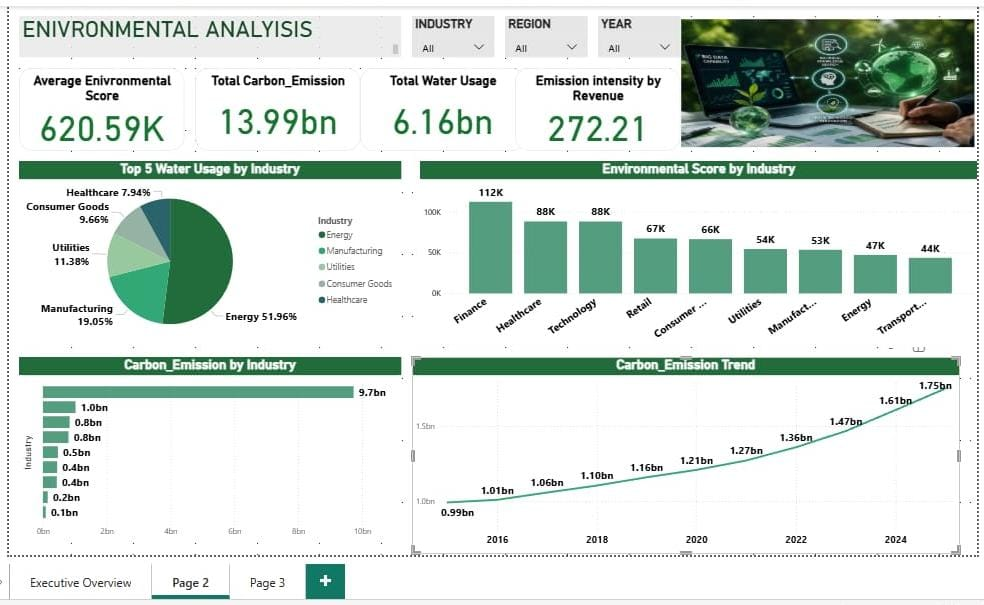

This screenshot's page, from the dashboard's own definition file:
{"tool":"powerbi","page":{"name":"Page 2","canvas":[1500,850],"ordinal":1},"visuals":[{"type":"card","title":"Total Carbon_Emission","fields":{"Values":["Sum(Sheet1.CarbonEmissions)"]},"box":[288,96,256,128],"z":0},{"type":"card","title":"Total Water Usage","fields":{"Values":["Sum(Sheet1.WaterUsage)"]},"box":[544,96,256,128],"z":1000},{"type":"card","title":"Average Enivronmental Score","fields":{"Values":["Sum(Sheet1.ESG_Environmental)"]},"box":[16,96,256,128],"z":2000},{"type":"clusteredBarChart","title":"Carbon_Emission by Industry","fields":{"Category":["Sheet1.Industry"],"Y":["Sum(Sheet1.CarbonEmissions)"]},"box":[16,544,592,288],"z":3000},{"type":"lineChart","title":"Carbon_Emission Trend","fields":{"Category":["Sheet1.Year"],"Y":["Sum(Sheet1.CarbonEmissions)"]},"box":[624,544,848,304],"z":4000},{"type":"pieChart","title":"Top 5 Water Usage by Industry","fields":{"Y":["Sum(Sheet1.WaterUsage)"],"Category":["Sheet1.Industry"]},"box":[16,240,592,288],"z":5000},{"type":"clusteredColumnChart","title":"Environmental Score by Industry","fields":{"Category":["Sheet1.Industry"],"Y":["Sum(Sheet1.ESG_Environmental)"]},"box":[636,240,864,288],"z":6000},{"type":"textbox","title":"ENIVRONMENTAL ANALYISIS","box":[16,16,592,64],"z":7000},{"type":"slicer","title":"INDUSTRY","fields":{"Values":["Sheet1.Industry"]},"box":[624,16,128,64],"z":8000},{"type":"slicer","title":"REGION","fields":{"Values":["Sheet1.Region"]},"box":[768,16,128,64],"z":9000},{"type":"slicer","title":"YEAR","fields":{"Values":["Sheet1.Year"]},"box":[912,16,128,64],"z":10000},{"type":"card","title":"Emission intensity by Revenue","fields":{"Values":["Sheet1.Emission_intensity by Revenue"]},"box":[784,96,256,128],"z":11000},{"type":"image","box":[1036,16,464,208],"z":11001}]}

Visuals, with their boxes on the page's 1500x850 design canvas (x1, y1, x2, y2). These are canvas units, not pixel positions in the 984x605 screenshot, which may show the page scaled, cropped or inside an application window:
"Total Carbon_Emission" card: bbox(288, 96, 544, 224)
"Total Water Usage" card: bbox(544, 96, 800, 224)
"Average Enivronmental Score" card: bbox(16, 96, 272, 224)
"Carbon_Emission by Industry" clusteredBarChart: bbox(16, 544, 608, 832)
"Carbon_Emission Trend" lineChart: bbox(624, 544, 1472, 848)
"Top 5 Water Usage by Industry" pieChart: bbox(16, 240, 608, 528)
"Environmental Score by Industry" clusteredColumnChart: bbox(636, 240, 1500, 528)
"ENIVRONMENTAL ANALYISIS" textbox: bbox(16, 16, 608, 80)
"INDUSTRY" slicer: bbox(624, 16, 752, 80)
"REGION" slicer: bbox(768, 16, 896, 80)
"YEAR" slicer: bbox(912, 16, 1040, 80)
"Emission intensity by Revenue" card: bbox(784, 96, 1040, 224)
image: bbox(1036, 16, 1500, 224)
